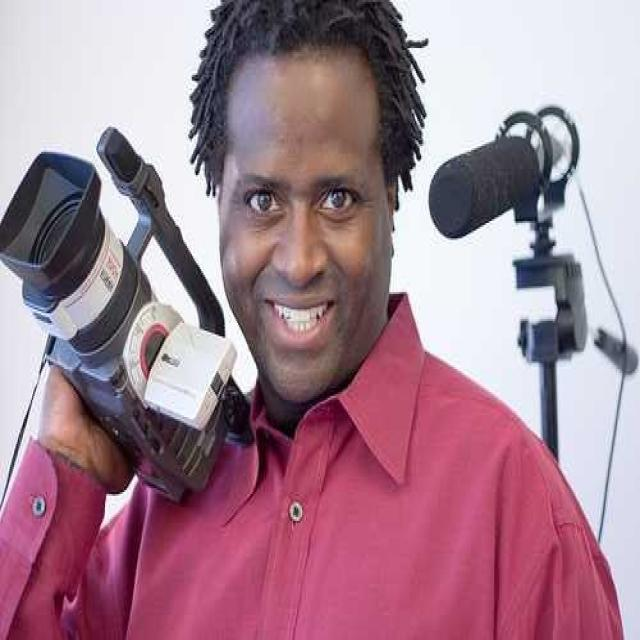microphone: (428, 105, 573, 244)
